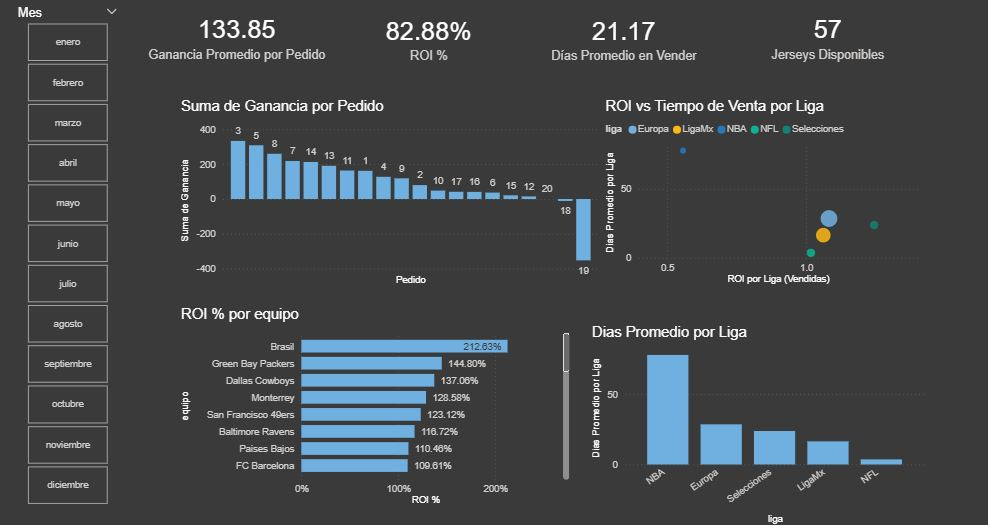

What the dashboard file says about the page in this screenshot:
{"tool":"powerbi","page":{"name":"Profitability & ROI","canvas":[1280,720],"ordinal":1},"visuals":[{"type":"actionButton","box":[0,0,100,40],"z":0},{"type":"card","fields":{"Values":["KPIS Base.Ganancia Promedio por Pedido"]},"box":[185.1,9.7,255.8,154.1],"z":1000},{"type":"card","fields":{"Values":["KPIS Base.ROI %"]},"box":[427.3,10.7,255.8,154.1],"z":2000},{"type":"card","fields":{"Values":["KPIS Base.Días Promedio en Vender"]},"box":[673.4,10.7,255.8,154.1],"z":3000},{"type":"card","fields":{"Values":["KPIS Base.Jerseys Disponibles"]},"box":[929.2,9.7,255.8,154.1],"z":4000},{"type":"columnChart","fields":{"Category":["data_jerseys_cleaned.Pedido"],"Y":["Sum(data_jerseys_cleaned.Ganancia)"]},"box":[237.6,164.3,535.1,240.9],"z":5000},{"type":"clusteredBarChart","fields":{"Category":["data_jerseys_cleaned.equipo"],"Y":["KPIS Base.ROI %"]},"box":[237.4,427.3,499,255.8],"z":6000},{"type":"lineClusteredColumnComboChart","title":"Dias Promedio por Liga","fields":{"Category":["data_jerseys_cleaned.liga"],"Y":["KPIS Base.Dias Promedio por Liga"]},"box":[755.9,449.8,429,257],"z":7000},{"type":"slicer","fields":{"Values":["data_jerseys_cleaned.Fecha de venta.Variación.Jerarquía de fechas.Mes"]},"box":[24.2,43.6,150.2,639.5],"z":8000},{"type":"scatterChart","title":"ROI vs Tiempo de Venta por Liga","fields":{"X":["KPIS Base.ROI por Liga"],"Y":["KPIS Base.Dias Promedio por Liga"],"Size":["KPIS Base.Jerseys Vendidas"],"Series":["data_jerseys_cleaned.liga"]},"box":[772.9,164.4,412,240],"z":9000}]}

Visuals, with their boxes on the page's 1280x720 design canvas (x1, y1, x2, y2). These are canvas units, not pixel positions in the 988x525 screenshot, which may show the page scaled, cropped or inside an application window:
actionButton: select_region(0, 0, 100, 40)
card - KPIS Base.Ganancia Promedio por Pedido: select_region(185, 10, 441, 164)
card - KPIS Base.ROI %: select_region(427, 11, 683, 165)
card - KPIS Base.Días Promedio en Vender: select_region(673, 11, 929, 165)
card - KPIS Base.Jerseys Disponibles: select_region(929, 10, 1185, 164)
columnChart - data_jerseys_cleaned.Pedido x Sum(data_jerseys_cleaned.Ganancia): select_region(238, 164, 773, 405)
clusteredBarChart - data_jerseys_cleaned.equipo x KPIS Base.ROI %: select_region(237, 427, 736, 683)
"Dias Promedio por Liga" lineClusteredColumnComboChart: select_region(756, 450, 1185, 707)
slicer - data_jerseys_cleaned.Fecha de venta.Variación.Jerarquía de fechas.Mes: select_region(24, 44, 174, 683)
"ROI vs Tiempo de Venta por Liga" scatterChart: select_region(773, 164, 1185, 404)
